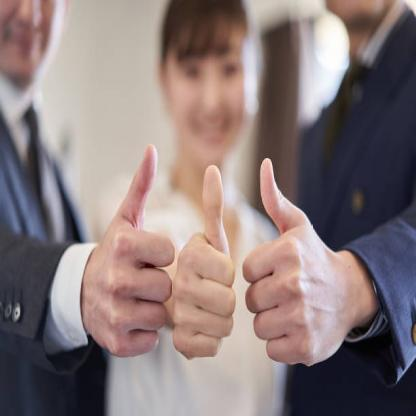thumb_up: (243, 155, 344, 370), (88, 139, 173, 360), (172, 160, 239, 364)
